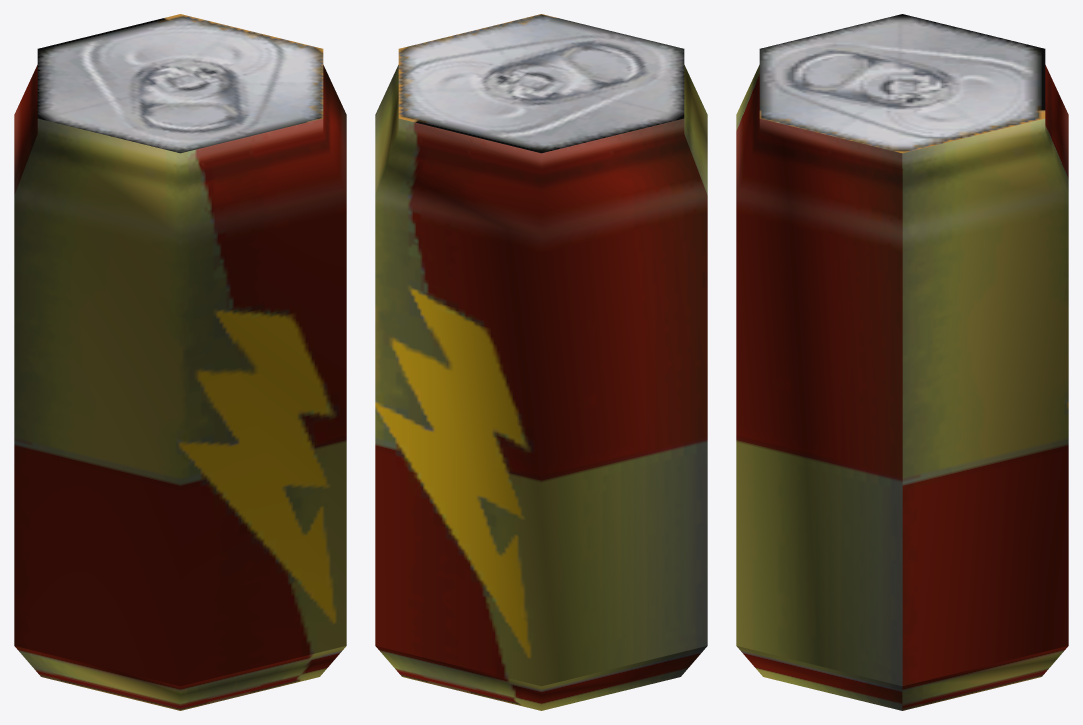
Rendered from Pickup_Energydrinks1.glb.
3 renders of one model, left to right at view 1: azimuth 30°, elevation 25°; view 2: azimuth 150°, elevation 25°; view 3: azimuth 270°, elevation 25°, orthographic.
Parts seen in each view (by area): view 1: pk_Energydrinks_1; view 2: pk_Energydrinks_1; view 3: pk_Energydrinks_1.
Boxes of the visible parts, left/top/right/bottom form: pk_Energydrinks_1: left=14, top=14, right=346, bottom=710; pk_Energydrinks_1: left=375, top=14, right=707, bottom=710; pk_Energydrinks_1: left=736, top=14, right=1068, bottom=710.
Bounding box in the file's own units: 0.2271 × 0.3651 × 0.1967.
1 material, 1 textured.
